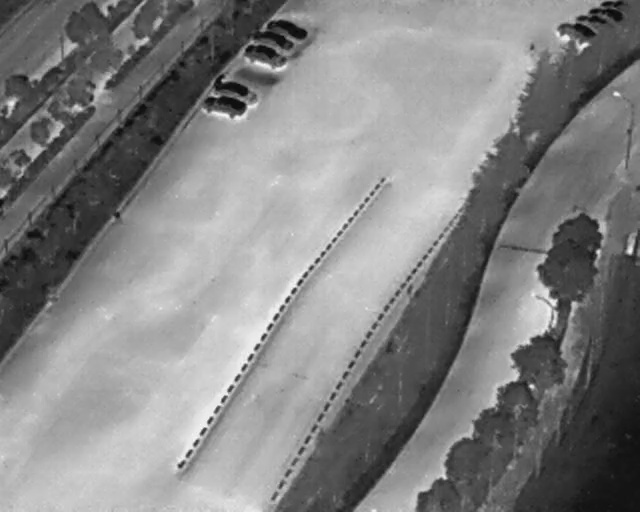Car: (551, 12, 603, 58), (239, 34, 291, 75), (211, 74, 263, 108), (259, 12, 312, 45), (201, 89, 248, 122), (249, 22, 297, 54), (586, 2, 627, 28), (572, 11, 611, 31), (595, 0, 630, 8)
